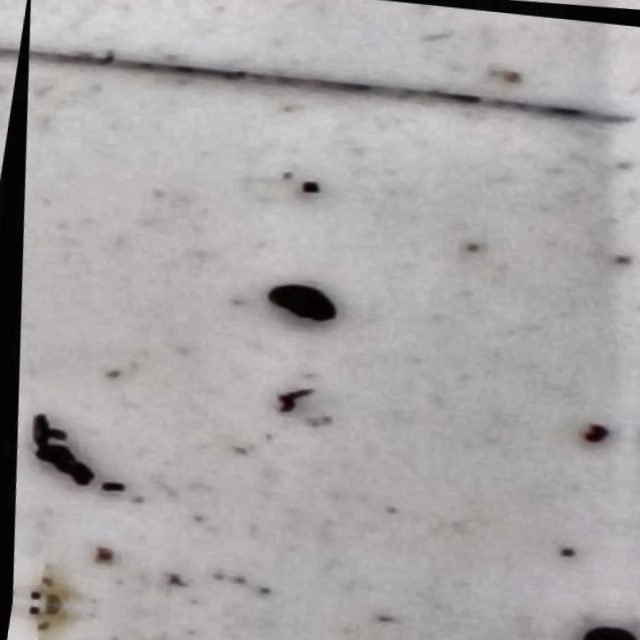varroa: (258, 277, 338, 325)
